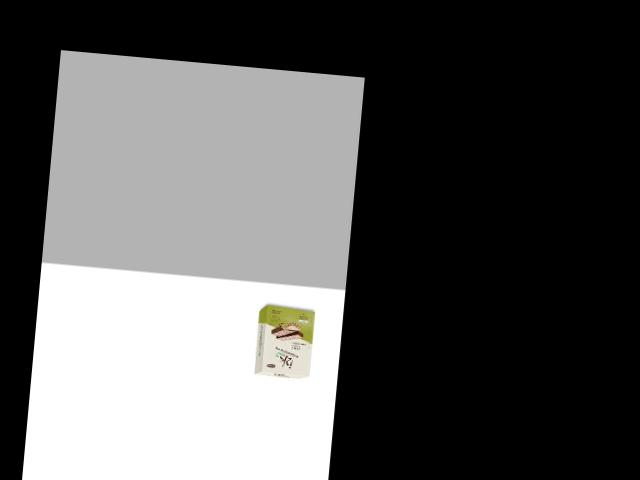chocolate: (249, 300, 322, 381)
